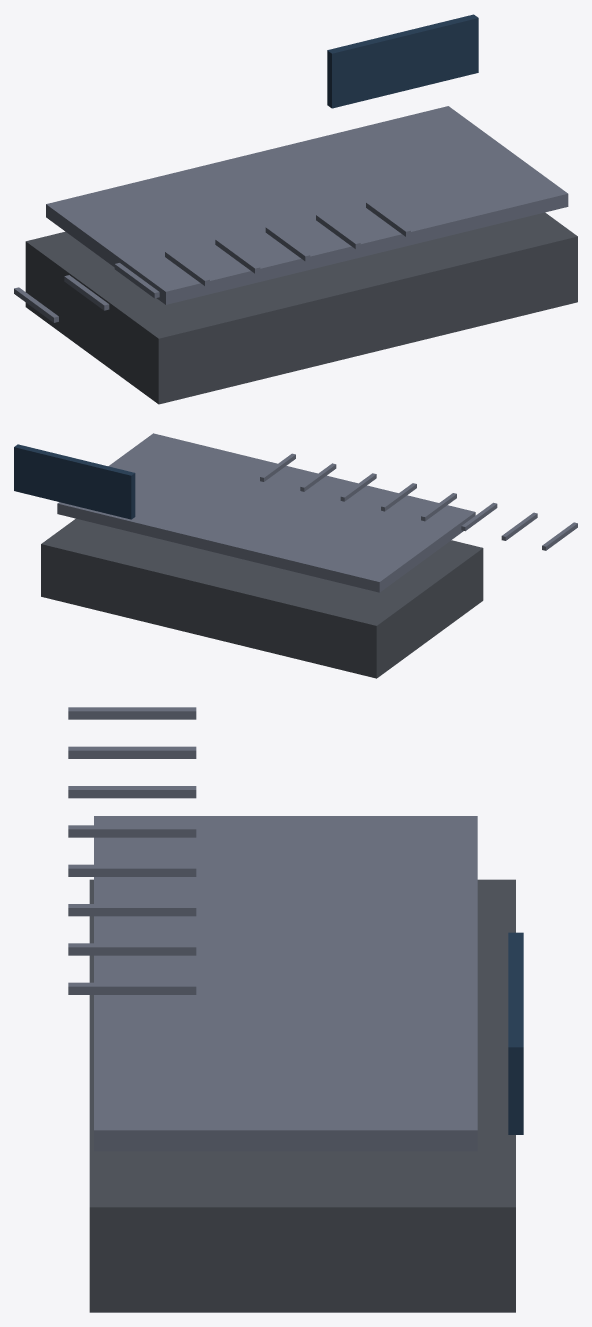
The model's file is yamaha-ql1.glb.
3 renders of one model, top to bottom at view 1: azimuth 30°, elevation 25°; view 2: azimuth 150°, elevation 25°; view 3: azimuth 270°, elevation 25°, orthographic. The views are drawn at different scales.
Parts seen in each view (by area): view 1: yamaha-ql1; view 2: yamaha-ql1; view 3: yamaha-ql1.
Boxes of the visible parts, <box> form: yamaha-ql1: <box>14,14,577,404</box>; yamaha-ql1: <box>14,433,577,678</box>; yamaha-ql1: <box>68,707,523,1312</box>.
Bounding box in the file's own units: 0.6705 × 0.2062 × 0.2938.
